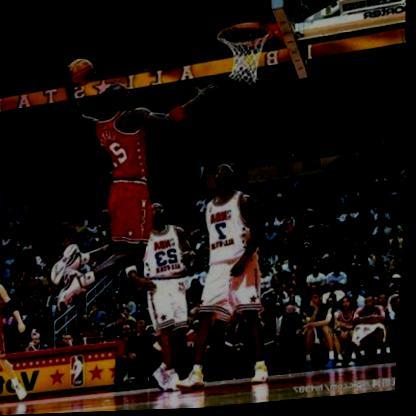basketball: (68, 58, 97, 86)
rim: (213, 22, 276, 89)
